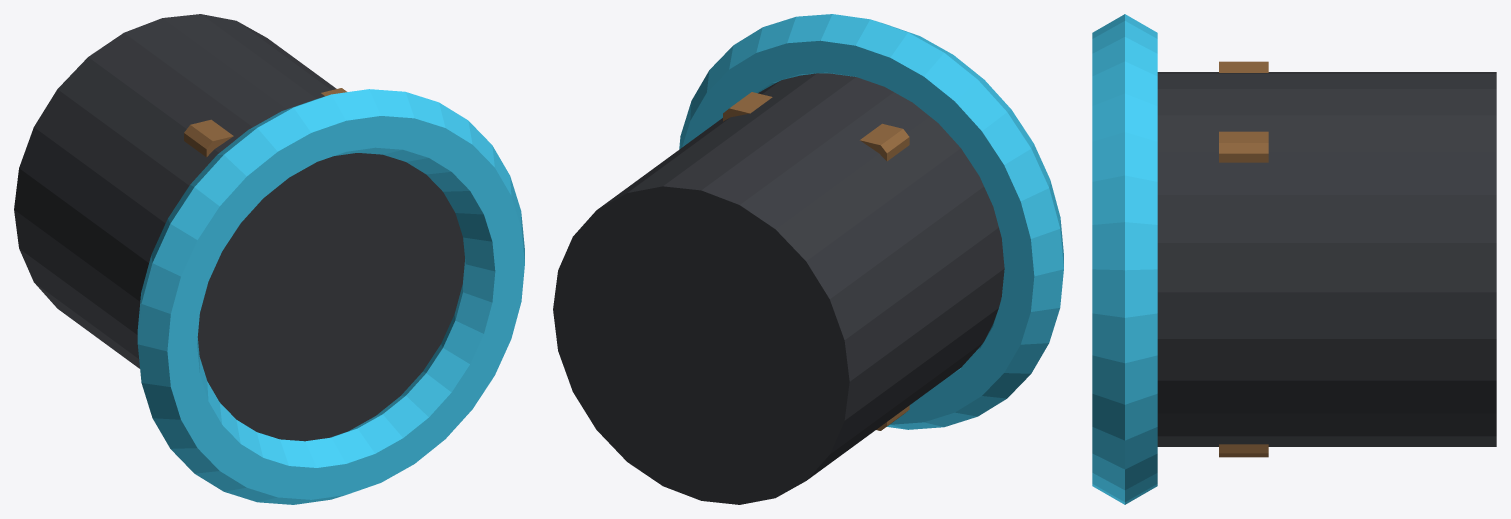
The model's file is 08C_Aegis_Shield_Power_Core.obj.
3 renders of one model, left to right at view 1: azimuth 30°, elevation 25°; view 2: azimuth 150°, elevation 25°; view 3: azimuth 270°, elevation 25°, orthographic. The views are drawn at different scales.
Visible parts, largest first — view 1: 000_Battery, 001_EnergyLoop, 004_Cell_2; view 2: 000_Battery, 001_EnergyLoop, 004_Cell_2, 003_Cell_1; view 3: 000_Battery, 001_EnergyLoop, 003_Cell_1, 007_Cell_5, 004_Cell_2.
Boxes of the visible parts, left/top/right/bottom form: 000_Battery: left=14, top=14, right=464, bottom=441; 001_EnergyLoop: left=137, top=89, right=524, bottom=504; 004_Cell_2: left=184, top=119, right=233, bottom=157; 000_Battery: left=553, top=73, right=1004, bottom=504; 001_EnergyLoop: left=679, top=14, right=1063, bottom=429; 004_Cell_2: left=860, top=123, right=909, bottom=161; 003_Cell_1: left=723, top=92, right=772, bottom=121; 000_Battery: left=1157, top=72, right=1496, bottom=446; 001_EnergyLoop: left=1092, top=14, right=1157, bottom=504; 003_Cell_1: left=1219, top=131, right=1268, bottom=162; 007_Cell_5: left=1219, top=444, right=1268, bottom=457; 004_Cell_2: left=1219, top=61, right=1268, bottom=72.
Bounding box in the file's own units: 0.496 × 0.496 × 0.4079.
